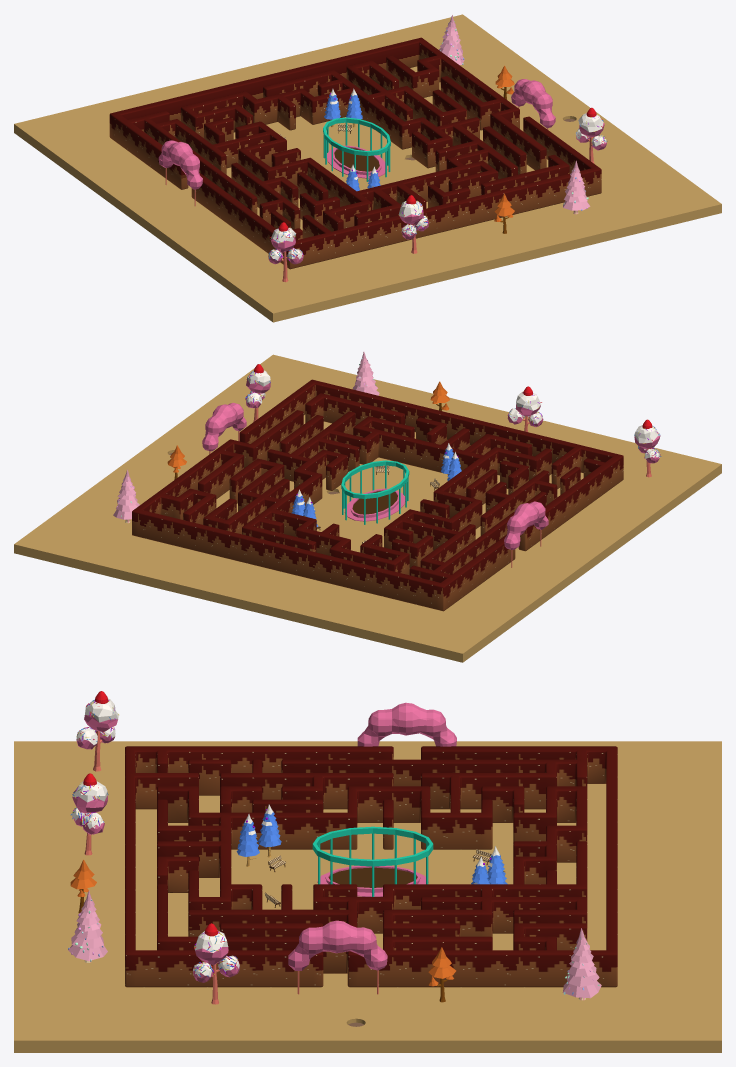
Rendered from D2_BROWNIE_LABRYNTHH.fbx.
The picture shows the model from 3 angles, top to bottom: view 1: azimuth 30°, elevation 25°; view 2: azimuth 150°, elevation 25°; view 3: azimuth 270°, elevation 25°; orthographic projection. The views are drawn at different scales.
Visible parts, largest first — view 1: Cube.004, Cube.165, Mball.001, Mball.006, Leaves_02.011, Leaves_02.010, Leaves_02.009, Cylinder.016, Pine_Trees_Pack_Tree_stem_01.016, Cylinder.020, Pine_Trees_Pack_Tree_stem_01.017, Cylinder.019 (+1 smaller); view 2: Cube.004, Cube.165, Mball.001, Mball.006, Leaves_02.010, Cylinder.016, Leaves_02.011, Leaves_02.009, Pine_Trees_Pack_Tree_stem_01.017, Cylinder.020, Cylinder.018, Pine_Trees_Pack_Tree_stem_01.016 (+1 smaller); view 3: Cube.165, Cube.004, Mball.006, Mball.001, Leaves_02.009, Cylinder.016, Leaves_02.011, Leaves_02.010, Pine_Trees_Pack_Tree_stem_01.017, Pine_Trees_Pack_Tree_stem_01.016, Cylinder.019, Cylinder.020 (+5 smaller).
Part boxes in pixels (x1=…): Cube.004: x1=109, y1=37, x2=601, y2=269; Cube.165: x1=14, y1=14, x2=721, y2=322; Mball.001: x1=158, y1=140, x2=202, y2=206; Mball.006: x1=511, y1=79, x2=555, y2=129; Leaves_02.011: x1=268, y1=222, x2=303, y2=282; Leaves_02.010: x1=398, y1=195, x2=428, y2=253; Leaves_02.009: x1=575, y1=107, x2=607, y2=163; Cylinder.016: x1=323, y1=117, x2=390, y2=155; Pine_Trees_Pack_Tree_stem_01.016: x1=563, y1=160, x2=590, y2=214; Cylinder.020: x1=323, y1=122, x2=390, y2=181; Pine_Trees_Pack_Tree_stem_01.017: x1=438, y1=15, x2=464, y2=65; Cylinder.019: x1=334, y1=148, x2=379, y2=171; Cube.004: x1=132, y1=379, x2=623, y2=611; Cube.165: x1=14, y1=354, x2=721, y2=662; Mball.001: x1=504, y1=501, x2=548, y2=567; Mball.006: x1=202, y1=402, x2=246, y2=454; Leaves_02.010: x1=507, y1=386, x2=543, y2=431; Cylinder.016: x1=341, y1=460, x2=409, y2=498; Leaves_02.011: x1=634, y1=419, x2=661, y2=477; Leaves_02.009: x1=245, y1=364, x2=270, y2=422; Pine_Trees_Pack_Tree_stem_01.017: x1=113, y1=469, x2=139, y2=523; Cylinder.020: x1=342, y1=465, x2=408, y2=524; Cylinder.018: x1=344, y1=488, x2=405, y2=521; Pine_Trees_Pack_Tree_stem_01.016: x1=352, y1=351, x2=379, y2=395; Cube.165: x1=14, y1=741, x2=721, y2=1052; Cube.004: x1=125, y1=746, x2=617, y2=987; Mball.006: x1=288, y1=920, x2=387, y2=994; Mball.001: x1=357, y1=702, x2=456, y2=746; Leaves_02.009: x1=193, y1=923, x2=239, y2=1004; Cylinder.016: x1=312, y1=826, x2=433, y2=866; Leaves_02.011: x1=76, y1=691, x2=118, y2=771; Leaves_02.010: x1=70, y1=773, x2=108, y2=855; Pine_Trees_Pack_Tree_stem_01.017: x1=562, y1=928, x2=601, y2=1000; Pine_Trees_Pack_Tree_stem_01.016: x1=68, y1=890, x2=107, y2=962; Cylinder.019: x1=329, y1=867, x2=417, y2=887; Cylinder.020: x1=318, y1=833, x2=428, y2=896.
Size of the model in its own units: 8217 by 1166 by 8217.
23 materials, 3 textured.
